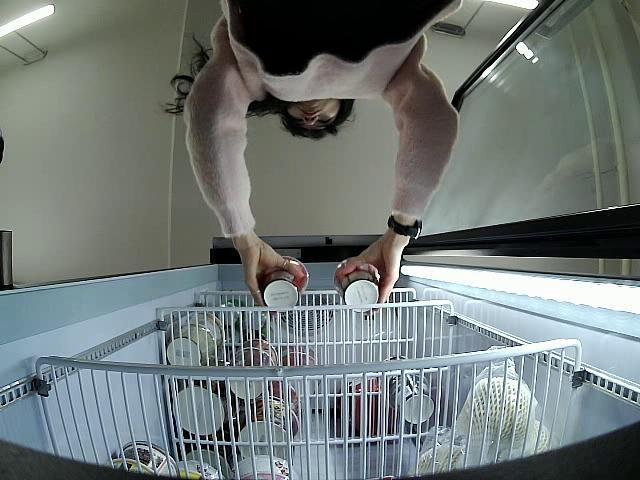02_shinRamen_S: (260, 255, 308, 310), (333, 260, 380, 314)
